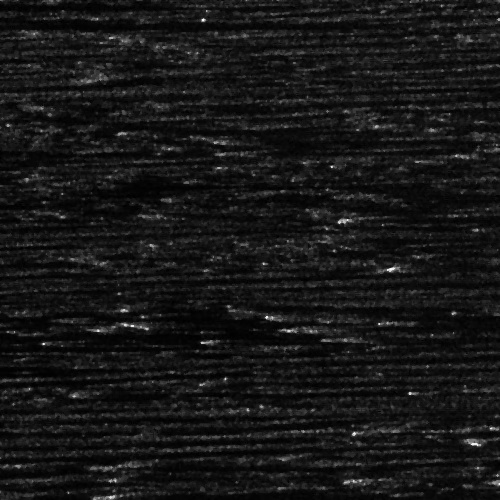object: (92, 461, 165, 466), (87, 491, 160, 496), (466, 434, 500, 441)
shadow: (123, 491, 466, 496), (129, 461, 323, 466), (493, 434, 500, 441)
